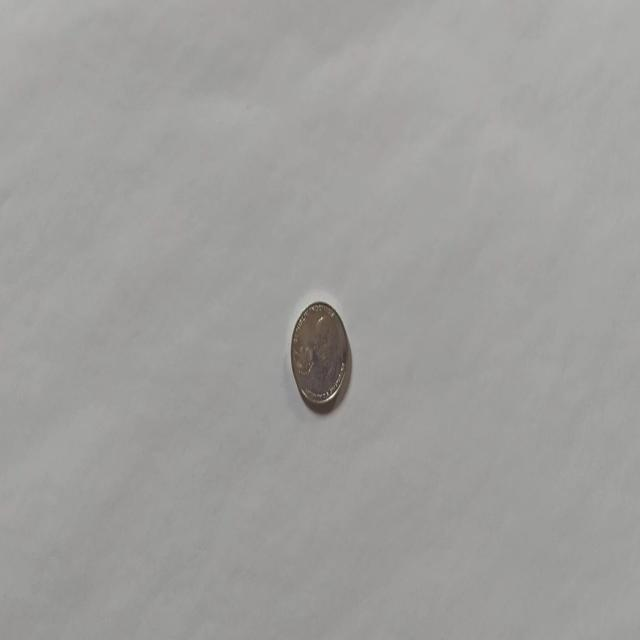lima ratus rupiah: (290, 298, 350, 412)
